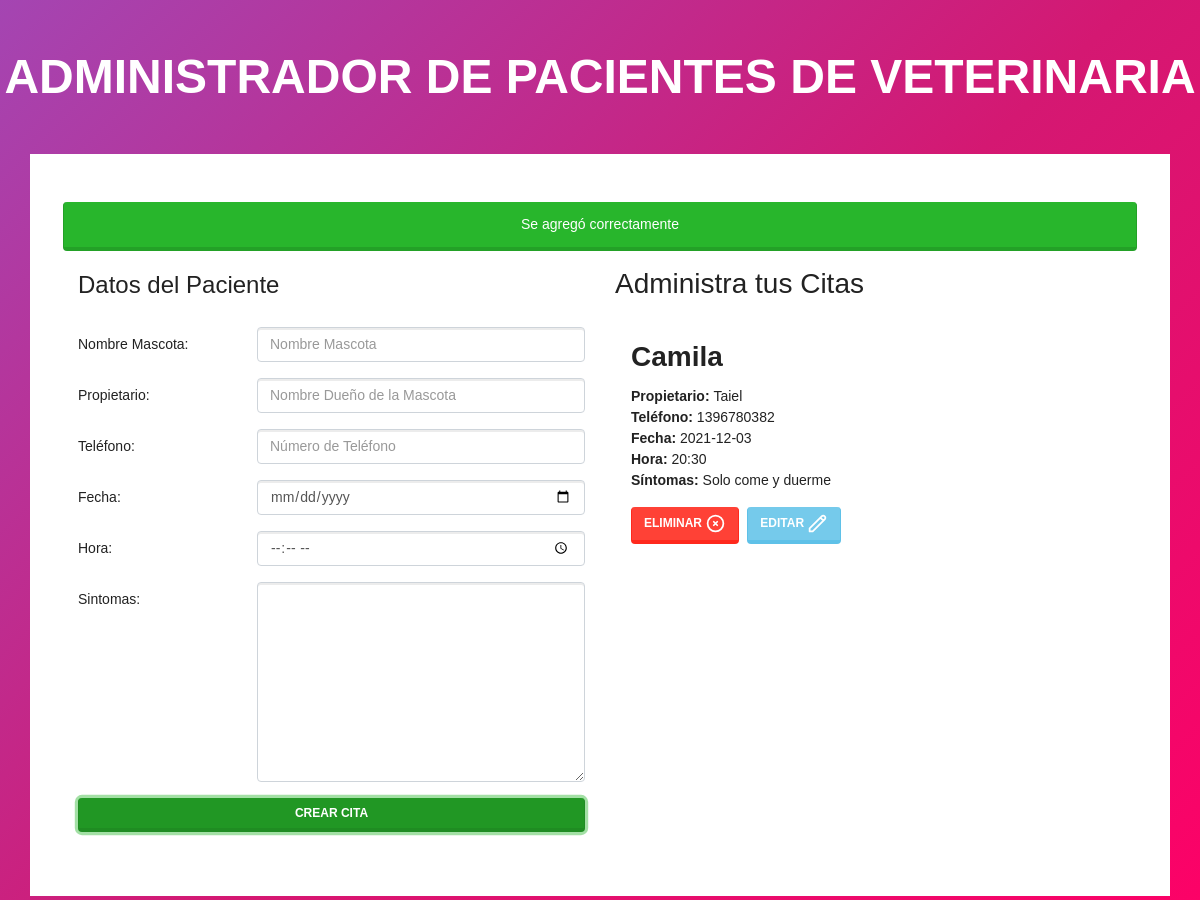
Llena los campos para una nueva cita y la elimina › Eliminar una cita
# Click en eliminar
Click the button with test id "btn-eliminar" at (685, 526), box [631,507,739,544]
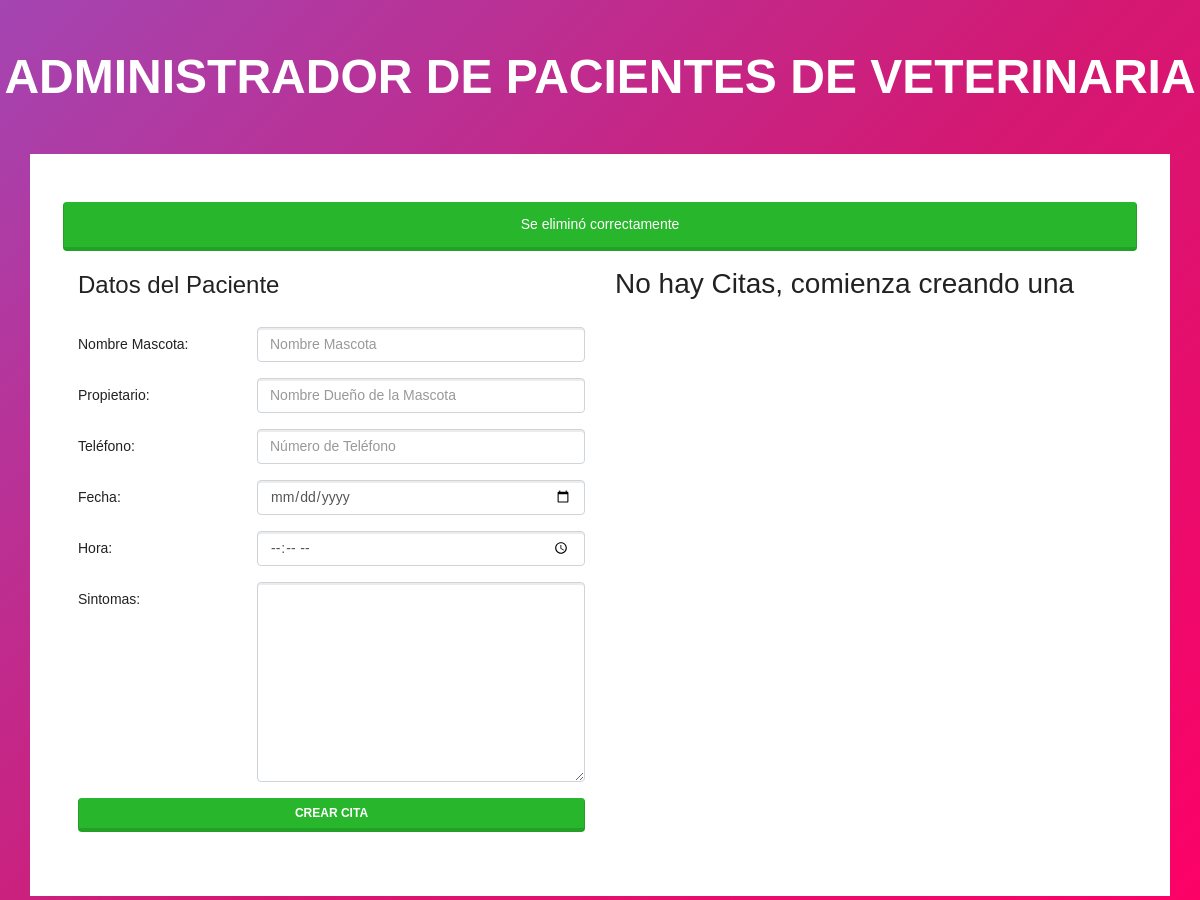
Expected: the text with test id "alerta" reads "Se eliminó correctamente", [63,202,1137,251]
Expected: the heading with test id "citas-heading" reads "No hay Citas, comienza creando una", [615,267,1122,301]
